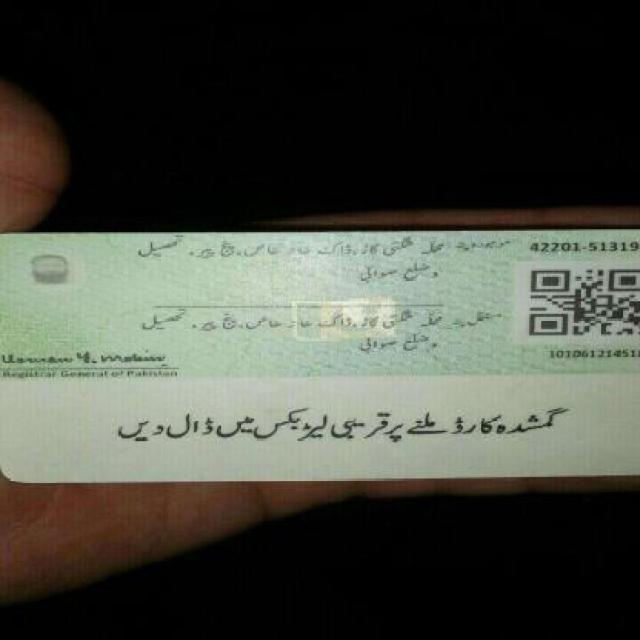Back: (10, 223, 632, 482)
